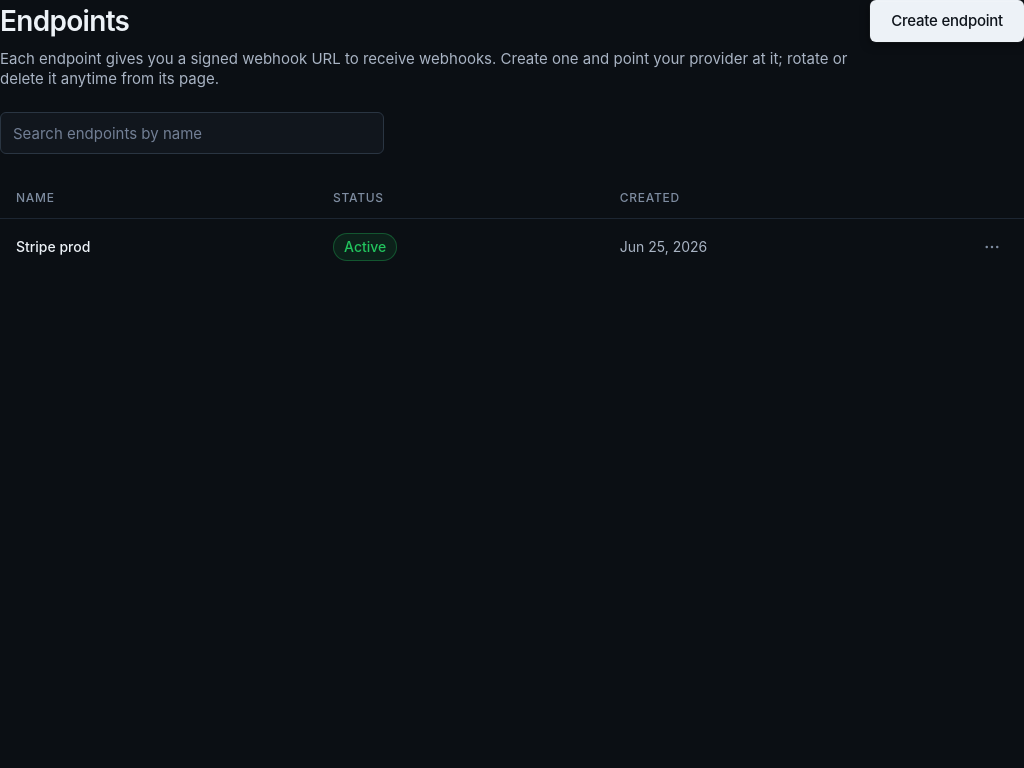
Test: EndpointsManager › removes a row in place when its ⋯ menu delete succeeds (no reload)
Step 1. Click the button named "Actions for Stripe prod" → click(992, 247), box [976,231,1008,263]
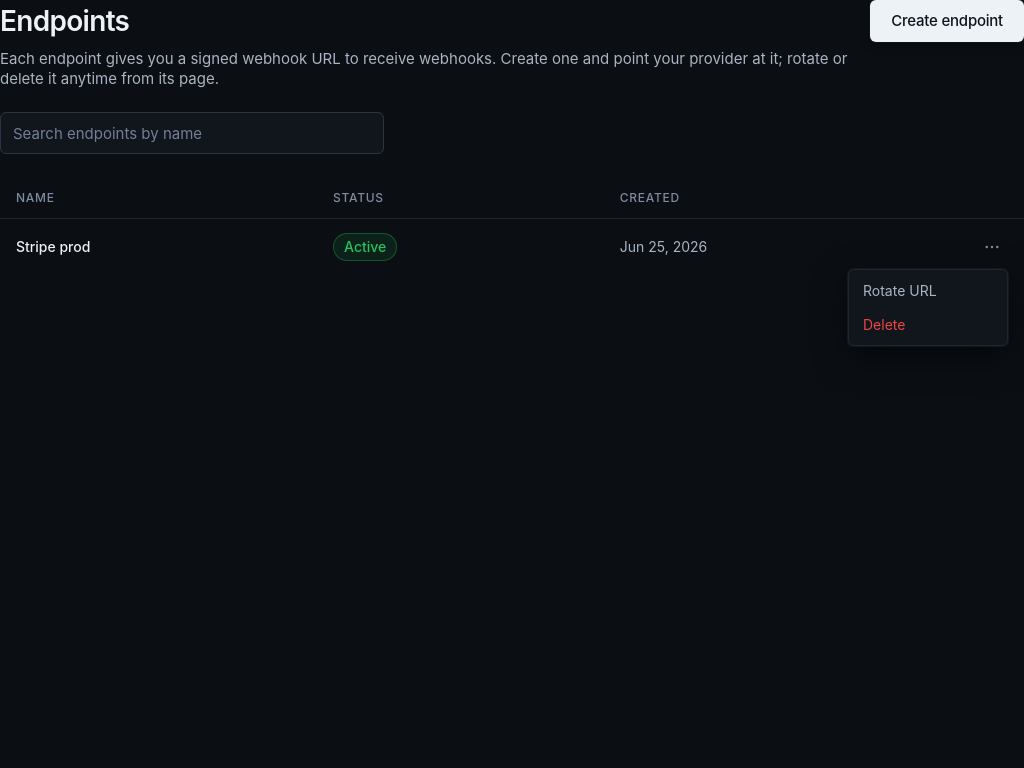
Step 2. Click the menu item "Delete" → click(884, 324), box [863,316,905,333]
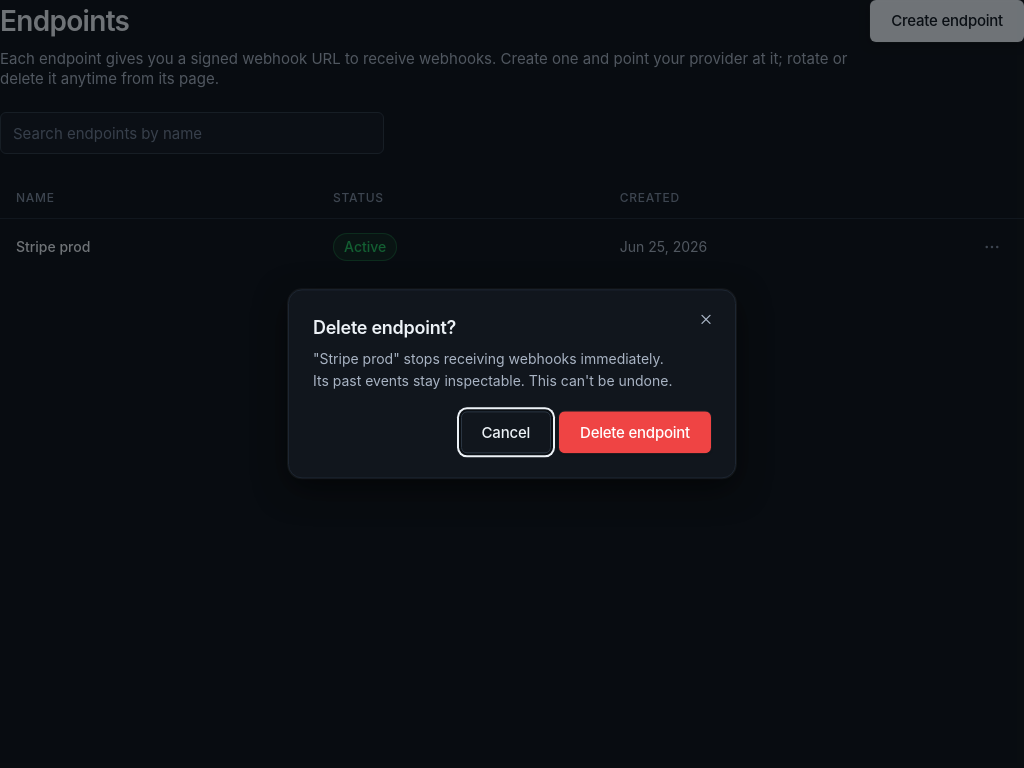
Step 3. Click the button "Delete endpoint" → click(635, 433), box [559,412,711,454]
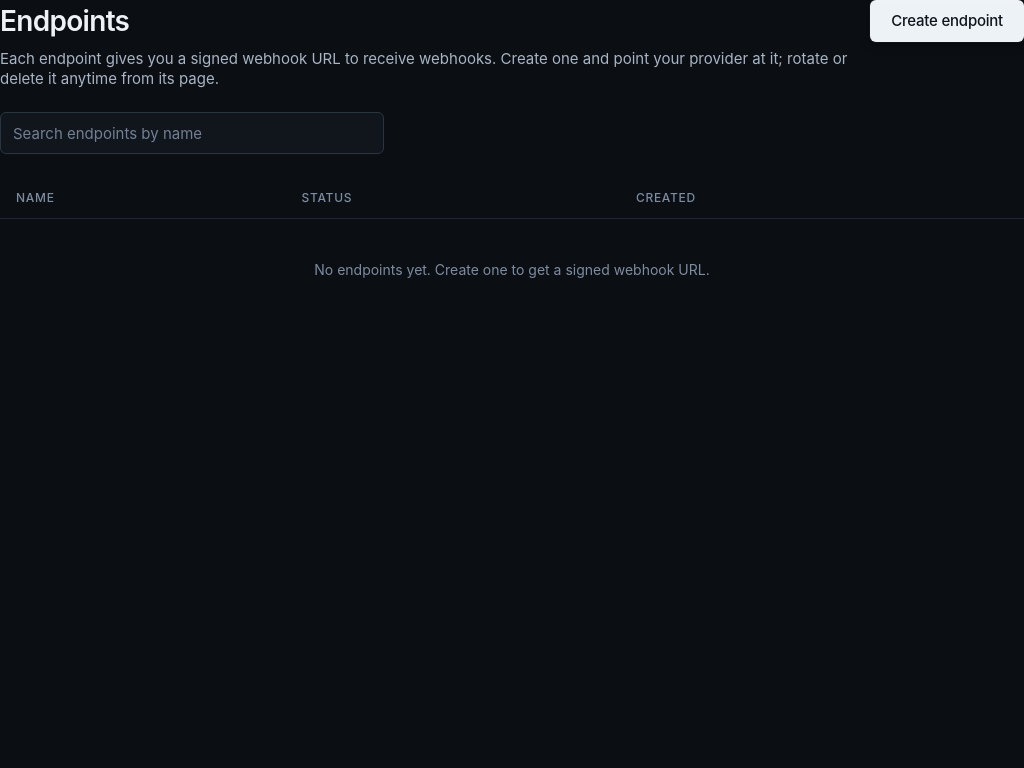
Expected: the link "Stripe prod" is gone
Expected: the text "No endpoints yet. Create one to get a signed webhook URL." is shown, [0,218,1023,321]
